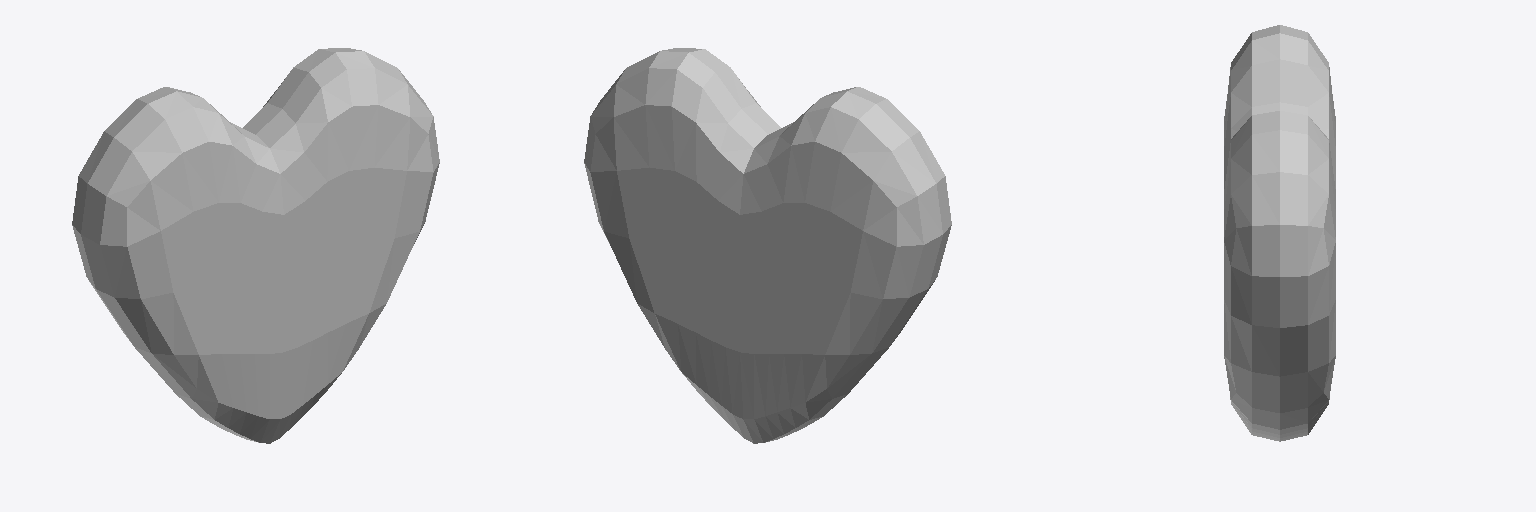
The model's file is heart.obj.
3 views of the same model, side by side, from view 1: azimuth 30°, elevation 25°; view 2: azimuth 150°, elevation 25°; view 3: azimuth 270°, elevation 25° (orthographic).
Parts seen in each view (by area): view 1: pCube3; view 2: pCube3; view 3: pCube3.
Boxes of the visible parts, x1=… form: pCube3: x1=72, y1=48, x2=439, y2=443; pCube3: x1=584, y1=48, x2=951, y2=443; pCube3: x1=1224, y1=25, x2=1335, y2=441.
Bounding box in the file's own units: 0.9097 × 0.9137 × 0.2521.